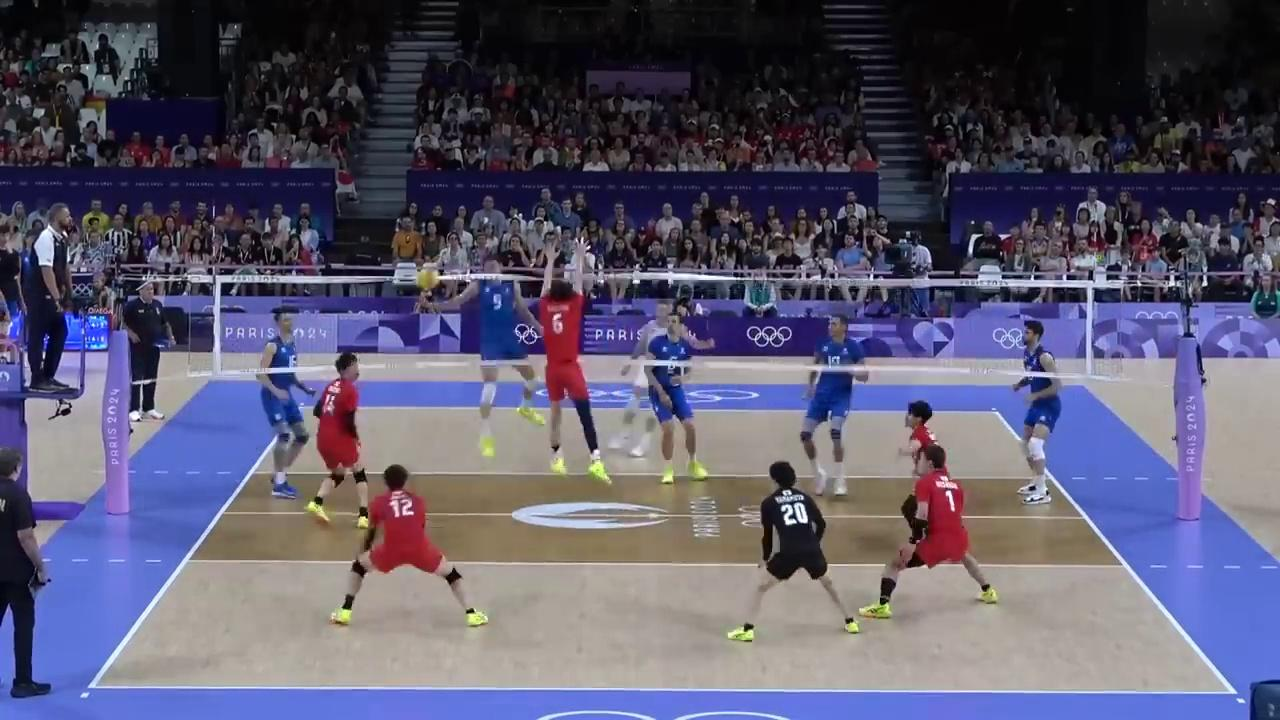ball: (417, 269, 441, 292)
